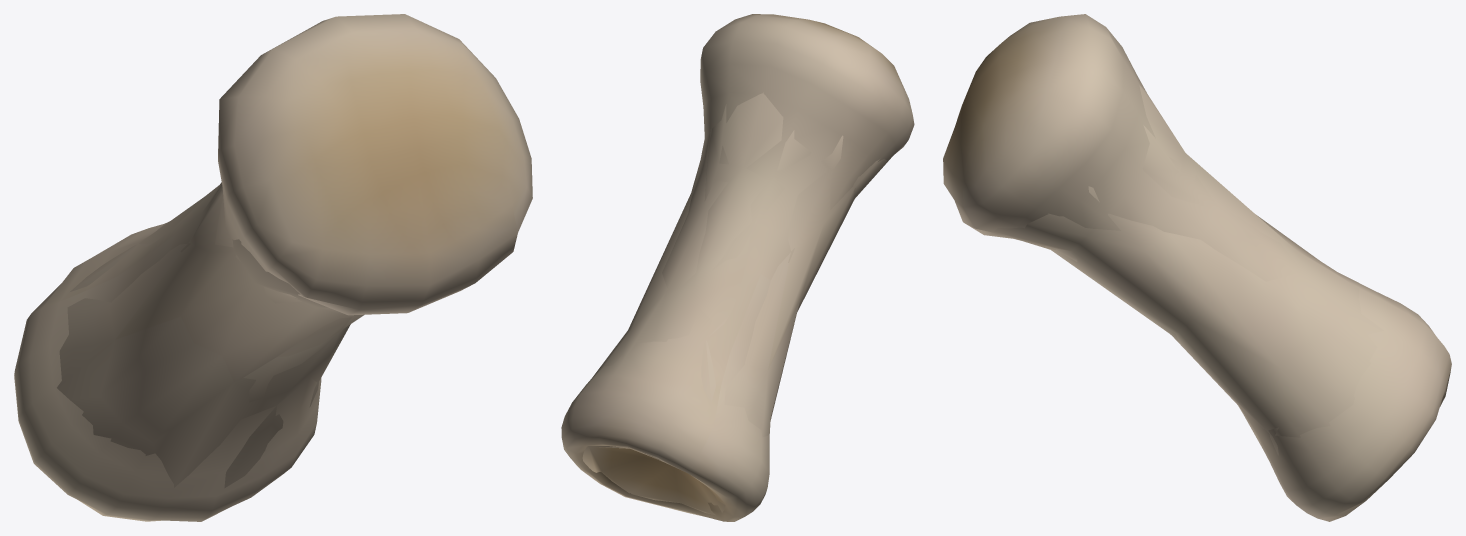
File: vertebrae caudales 05.fbx
3 views of the same model, side by side, from view 1: azimuth 30°, elevation 25°; view 2: azimuth 150°, elevation 25°; view 3: azimuth 270°, elevation 25° (orthographic). The views are drawn at different scales.
Visible parts, largest first — view 1: vertebrae caudales 05, vertebrae caudales 05 low; view 2: vertebrae caudales 05, vertebrae caudales 05 low; view 3: vertebrae caudales 05, vertebrae caudales 05 low.
Part boxes in pixels (bbox=[...]): vertebrae caudales 05: bbox=[14, 14, 532, 521]; vertebrae caudales 05 low: bbox=[57, 182, 364, 488]; vertebrae caudales 05: bbox=[561, 14, 914, 521]; vertebrae caudales 05 low: bbox=[582, 92, 890, 515]; vertebrae caudales 05: bbox=[943, 14, 1451, 521]; vertebrae caudales 05 low: bbox=[994, 85, 1383, 455].
Size of the model in its own units: 1.99 by 4.09 by 3.99.
Materials: 1 (1 with a texture image).
